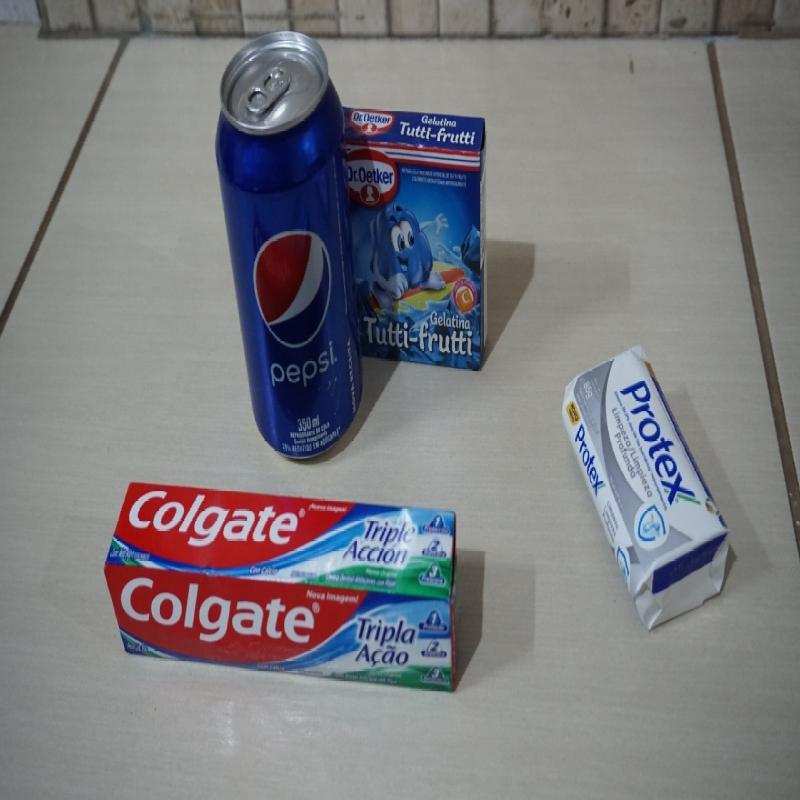Gelatine: (339, 103, 489, 371)
Soap: (562, 345, 732, 634)
Soda can: (214, 27, 364, 462)
Toothpaste: (102, 480, 459, 696)
